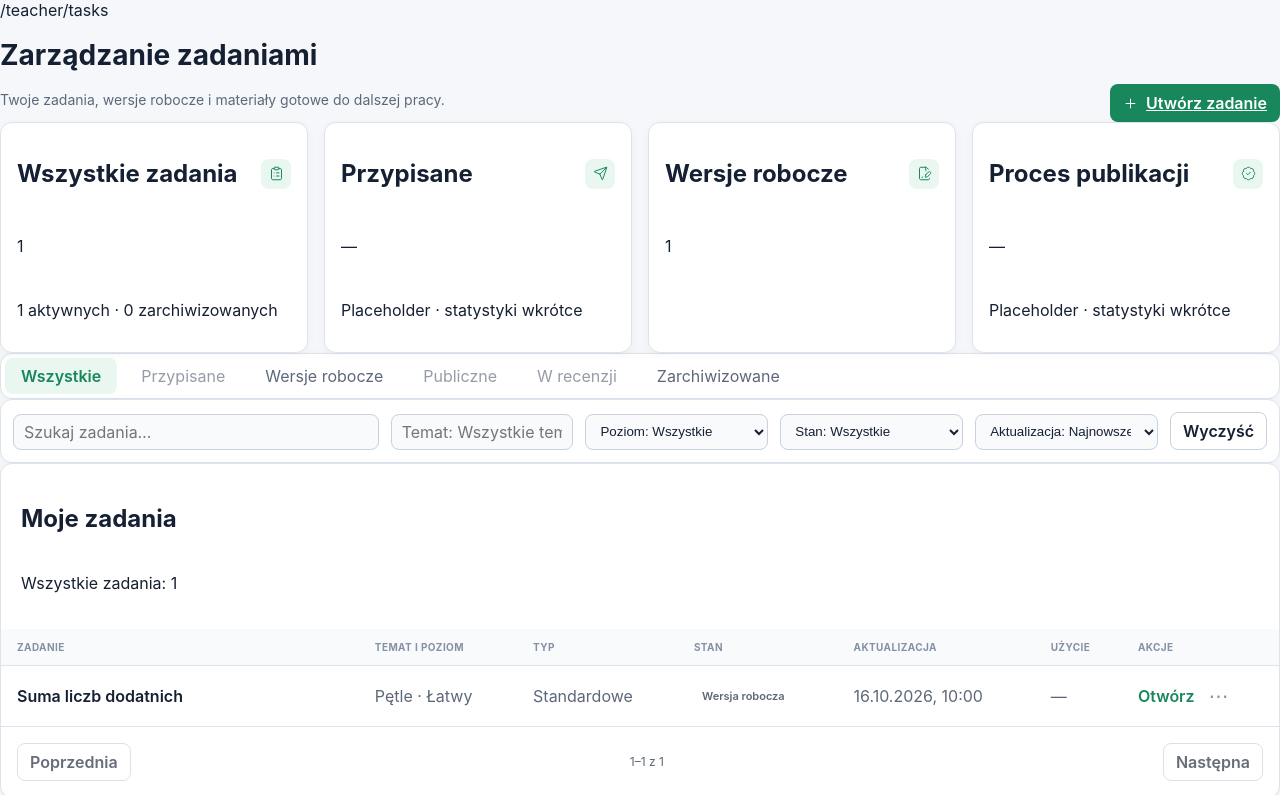
archives from the row menu and refreshes the list and metrics
This screenshot has width=1280, height=795.
Check: the table is shown, box 1,629 -> 1279,726
Check: the button "Archiwizuj" is not shown
Step 1. Click the button "⋯" → [1218, 696], box 1202,680 -> 1234,712
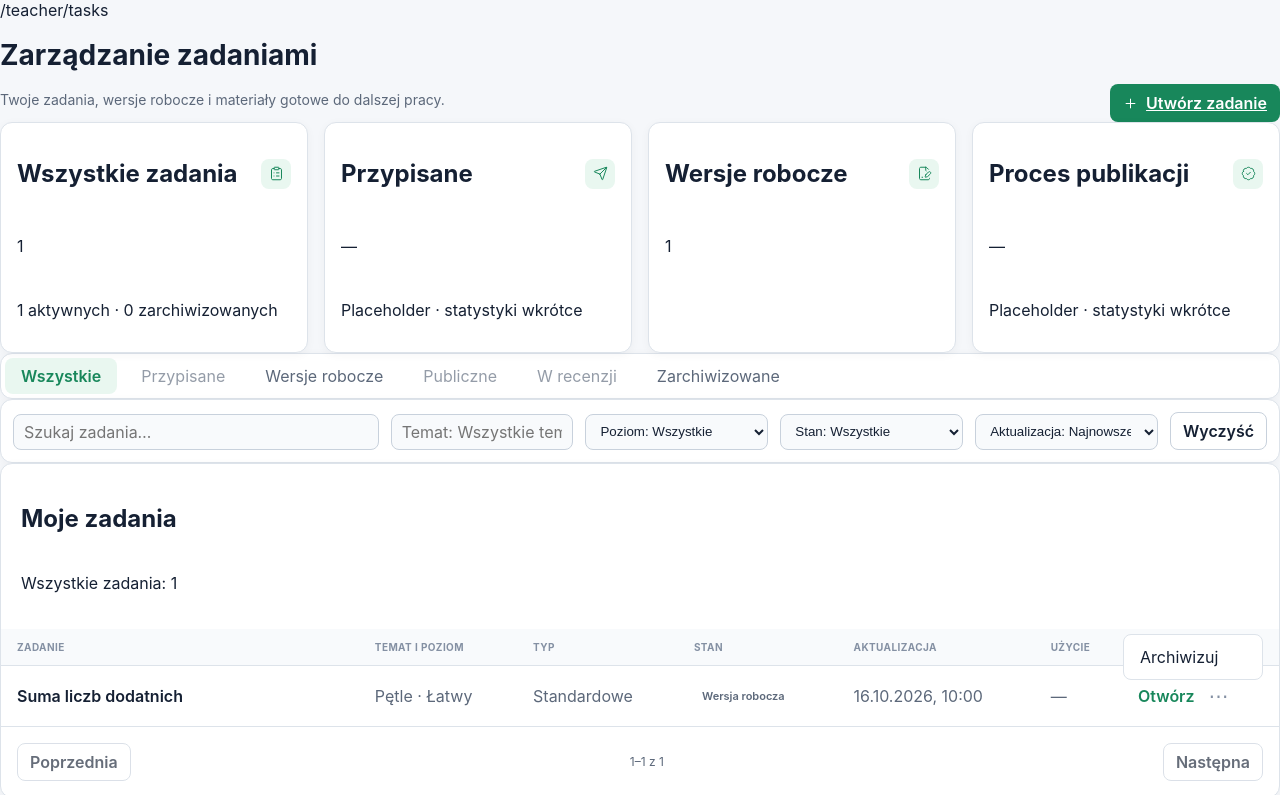
Step 2. Click the button "Archiwizuj" → [1193, 657], box 1128,639 -> 1258,675
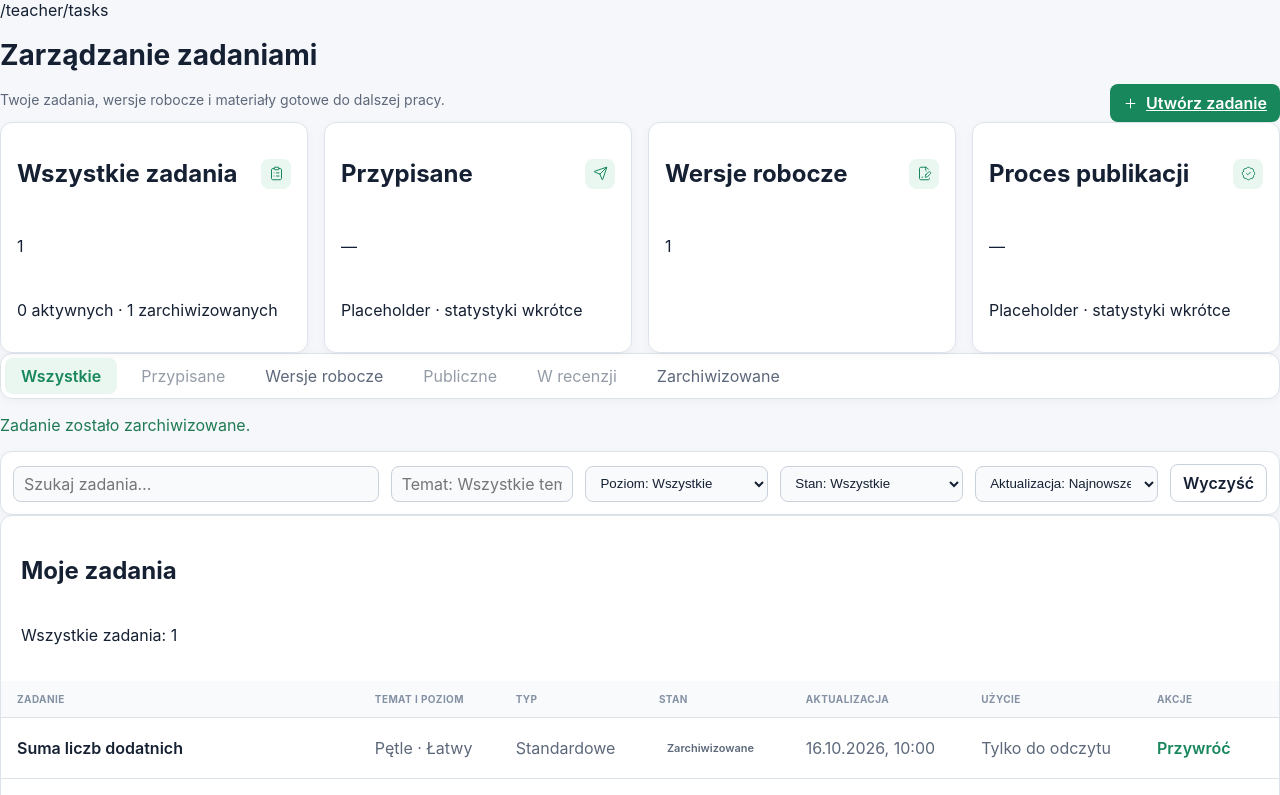
Check: the button "Przywróć" is shown, box 1157,732 -> 1230,764
Check: the text "Tylko do odczytu" is shown, box 965,717 -> 1141,778
Check: the text "0 aktywnych · 1 zarchiwizowanych" is shown, box 17,300 -> 291,320
